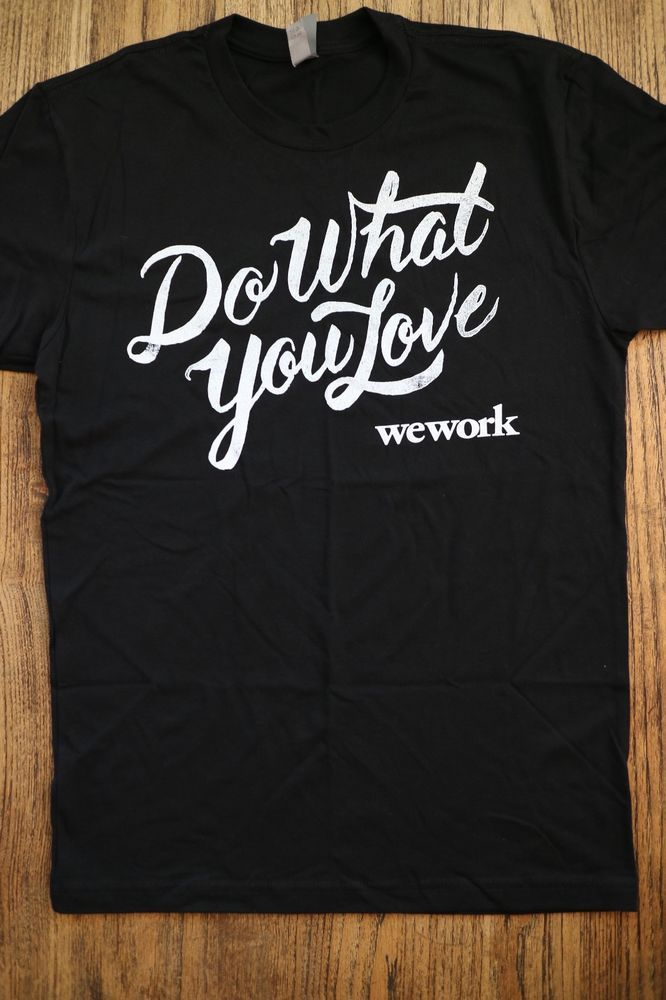wework: (371, 401, 523, 448)
